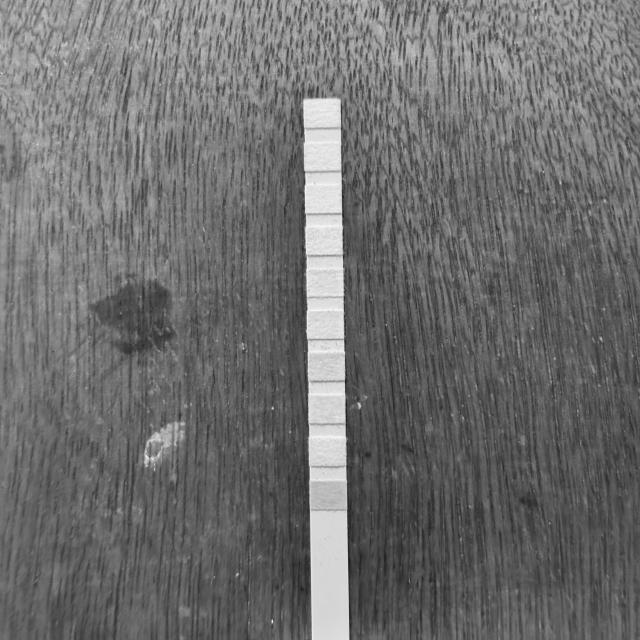Bilirubin: (310, 437, 345, 465)
Blood: (308, 311, 343, 339)
Glucose: (312, 482, 346, 509)
Ketone: (309, 396, 344, 423)
Leukocytes: (305, 101, 340, 128)
Nitrite: (306, 142, 340, 170)
Protein: (307, 227, 342, 254)
SpGravity: (310, 352, 344, 380)
Urobilinogen: (307, 185, 342, 212)
background: (0, 0, 640, 640)
pH: (308, 269, 343, 297)
strip: (304, 100, 349, 589)
